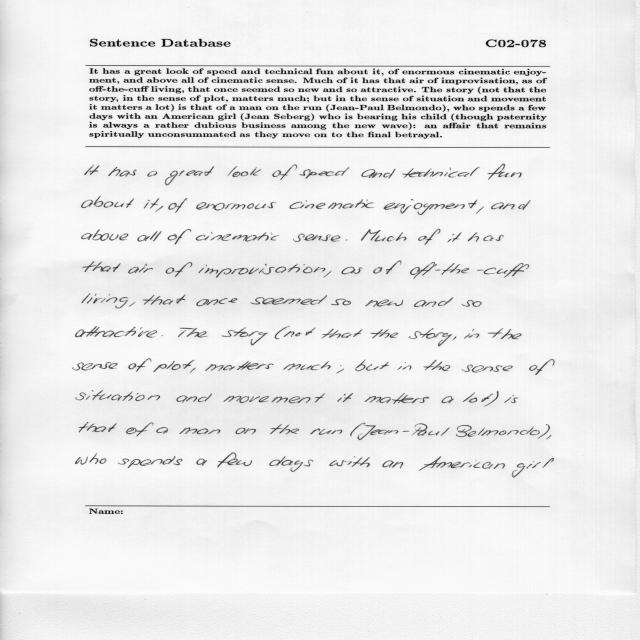word: (410, 262, 529, 279), (199, 264, 326, 278), (358, 424, 450, 441), (383, 199, 477, 215), (419, 456, 505, 471), (224, 394, 326, 404), (76, 326, 158, 338), (165, 166, 215, 185), (456, 425, 534, 437), (402, 167, 480, 178), (289, 199, 374, 209), (76, 391, 160, 401), (512, 458, 554, 478), (196, 232, 279, 242), (222, 328, 268, 346), (118, 456, 183, 468), (409, 329, 452, 347), (251, 295, 327, 305), (365, 393, 429, 404), (269, 456, 313, 472), (82, 294, 128, 309), (205, 361, 274, 371), (196, 202, 276, 210), (82, 196, 134, 208), (361, 229, 406, 242), (487, 164, 522, 180), (82, 229, 128, 241), (300, 168, 350, 179), (218, 453, 253, 468), (153, 360, 195, 372), (143, 294, 186, 305), (329, 457, 370, 468), (283, 361, 331, 370), (82, 261, 121, 272), (529, 359, 555, 375), (322, 329, 363, 339), (462, 365, 513, 373), (166, 262, 193, 277), (73, 362, 118, 371), (273, 164, 298, 180), (491, 200, 531, 210), (126, 423, 154, 437), (414, 298, 453, 308), (168, 229, 192, 245), (293, 234, 341, 242), (79, 423, 117, 433), (373, 261, 402, 274), (488, 328, 522, 339), (355, 360, 389, 371), (228, 166, 261, 177), (468, 232, 504, 242), (418, 229, 440, 245), (361, 169, 396, 179), (76, 453, 106, 464), (196, 298, 237, 306), (176, 394, 212, 403), (178, 328, 208, 338), (530, 424, 550, 439), (129, 359, 152, 372), (270, 424, 299, 434), (284, 328, 316, 337), (180, 428, 221, 435), (424, 360, 450, 371), (168, 198, 187, 213), (137, 231, 162, 242), (481, 391, 499, 406), (366, 300, 404, 307), (108, 167, 137, 176), (128, 264, 153, 274), (371, 330, 398, 339), (311, 428, 343, 435), (275, 326, 290, 339), (351, 423, 366, 436), (383, 460, 404, 469), (144, 198, 159, 209), (85, 165, 100, 175), (464, 329, 479, 339), (342, 267, 363, 274), (337, 393, 353, 402), (448, 232, 462, 242), (462, 300, 482, 307), (463, 393, 477, 403), (331, 299, 351, 305), (236, 428, 256, 434), (398, 362, 412, 370), (505, 395, 519, 403), (442, 397, 454, 404), (156, 427, 168, 434), (196, 459, 207, 466), (336, 365, 344, 374), (147, 171, 158, 177), (476, 206, 484, 214), (324, 271, 332, 278), (156, 206, 164, 212), (129, 302, 135, 307), (190, 368, 195, 373), (547, 435, 552, 439), (453, 337, 457, 341), (346, 240, 348, 241), (162, 335, 164, 336)
